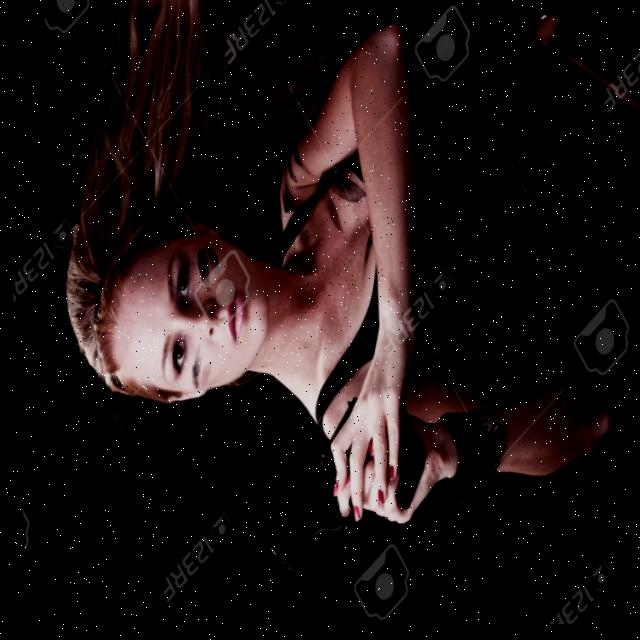pistol: (254, 386, 371, 585)
